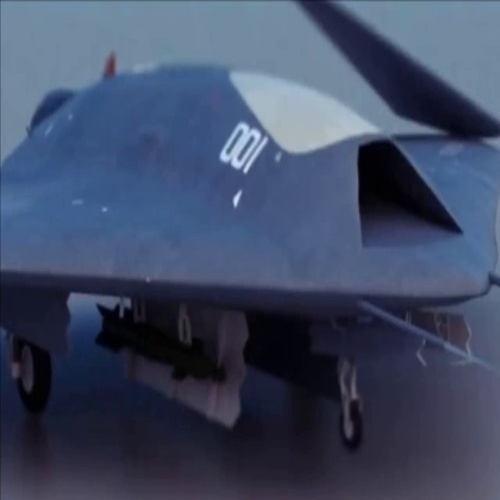uav1009: (1, 54, 498, 451)
